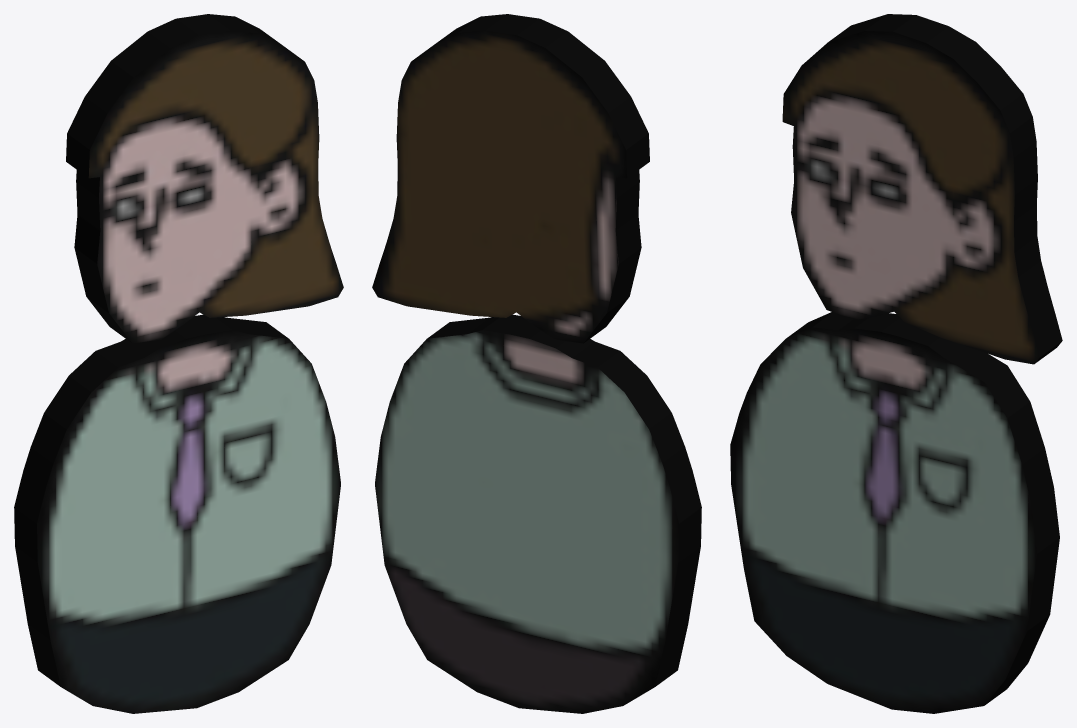
File: Camicia_donna1.fbx
3 renders of one model, left to right at view 1: azimuth 30°, elevation 25°; view 2: azimuth 150°, elevation 25°; view 3: azimuth 330°, elevation 25°, orthographic.
Parts seen in each view (by area): view 1: polySurface11; view 2: polySurface11; view 3: polySurface11.
Part boxes in pixels (box(x1,y1,x2,y2)): polySurface11: box(14, 14, 343, 713); polySurface11: box(372, 14, 701, 713); polySurface11: box(730, 14, 1062, 713).
Size of the model in its own units: 0.3012 by 0.6307 by 0.0388.
